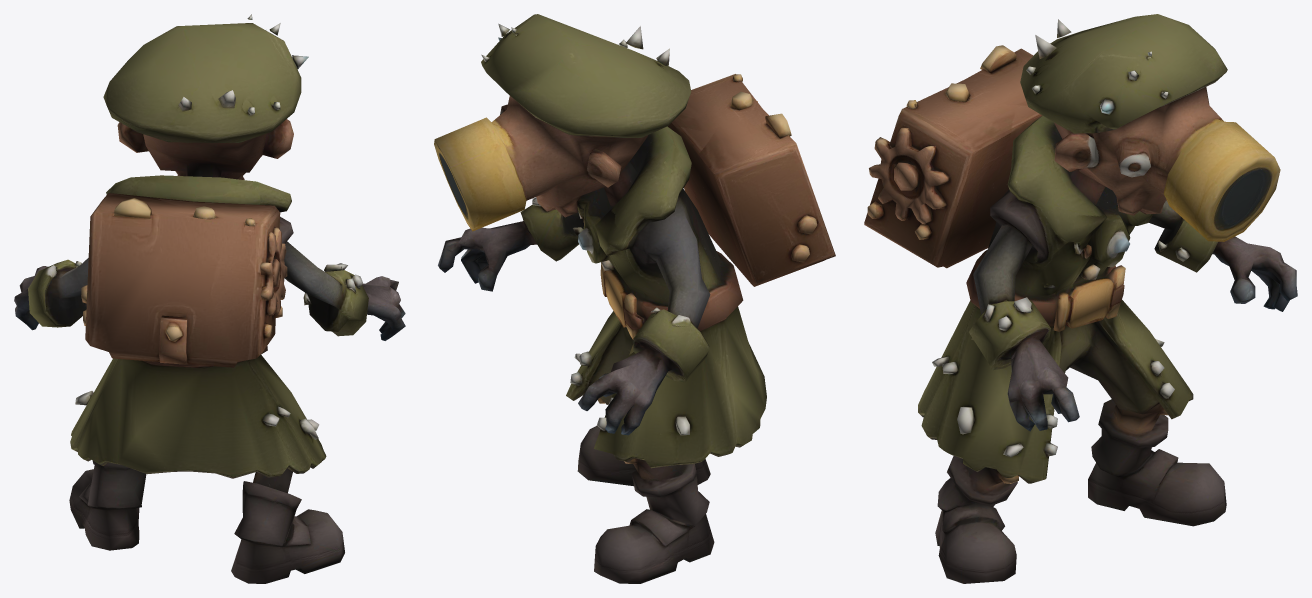
3 views of the same model, side by side, from view 1: azimuth 30°, elevation 25°; view 2: azimuth 150°, elevation 25°; view 3: azimuth 270°, elevation 25° (orthographic). The views are drawn at different scales.
Visible parts, largest first — view 1: tripo_node_42dd8c28-6d38-422d-8075-75713d555858; view 2: tripo_node_42dd8c28-6d38-422d-8075-75713d555858; view 3: tripo_node_42dd8c28-6d38-422d-8075-75713d555858.
Part boxes in pixels (x1=…): tripo_node_42dd8c28-6d38-422d-8075-75713d555858: x1=14, y1=14, x2=405, y2=583; tripo_node_42dd8c28-6d38-422d-8075-75713d555858: x1=434, y1=14, x2=835, y2=583; tripo_node_42dd8c28-6d38-422d-8075-75713d555858: x1=864, y1=14, x2=1297, y2=583.
Bounding box in the file's own units: 0.752 × 0.998 × 0.7383.
Materials: 1 (1 with a texture image).
